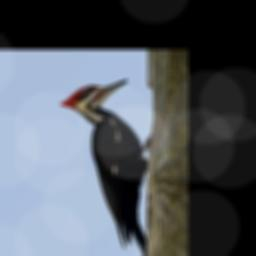Woodpecker: (57, 78, 150, 248)
